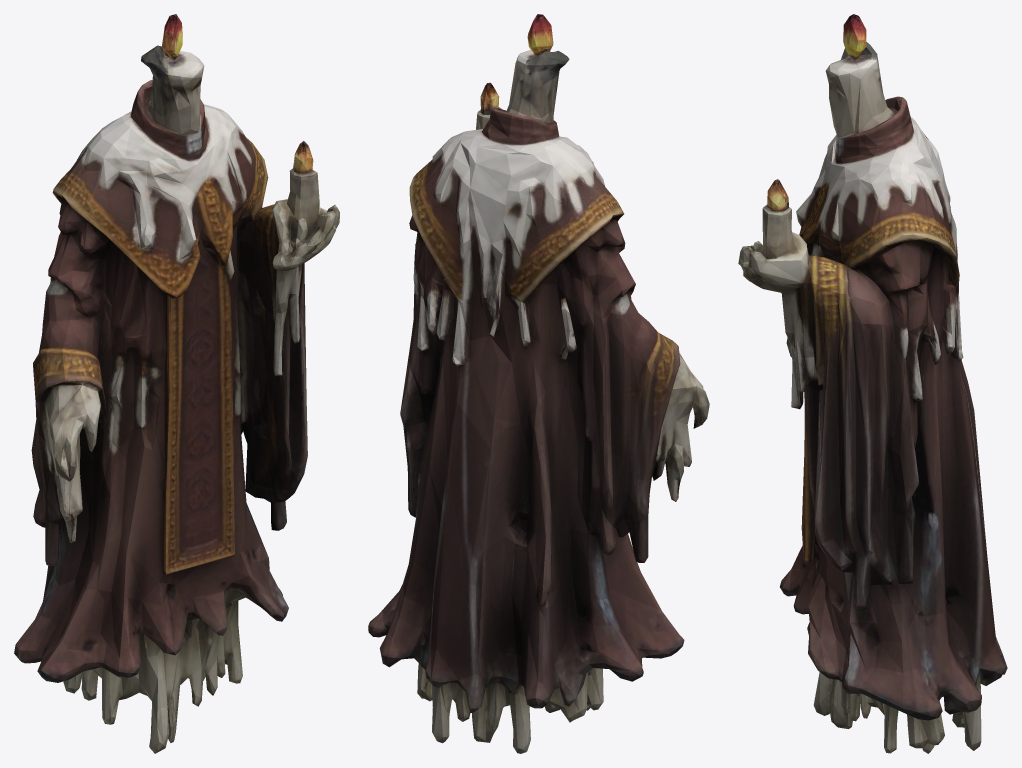
File: candleWraith.glb
The picture shows the model from 3 angles, left to right: view 1: azimuth 30°, elevation 25°; view 2: azimuth 150°, elevation 25°; view 3: azimuth 270°, elevation 25°; orthographic projection. The views are drawn at different scales.
Visible parts, largest first — view 1: world; view 2: world; view 3: world.
Part boxes in pixels (x1,y1,x2,y2): world: [14, 14, 339, 753]; world: [368, 14, 709, 753]; world: [738, 14, 1007, 753].
Bounding box in the file's own units: 0.4103 × 0.9884 × 0.336.
1 material, 1 textured.
